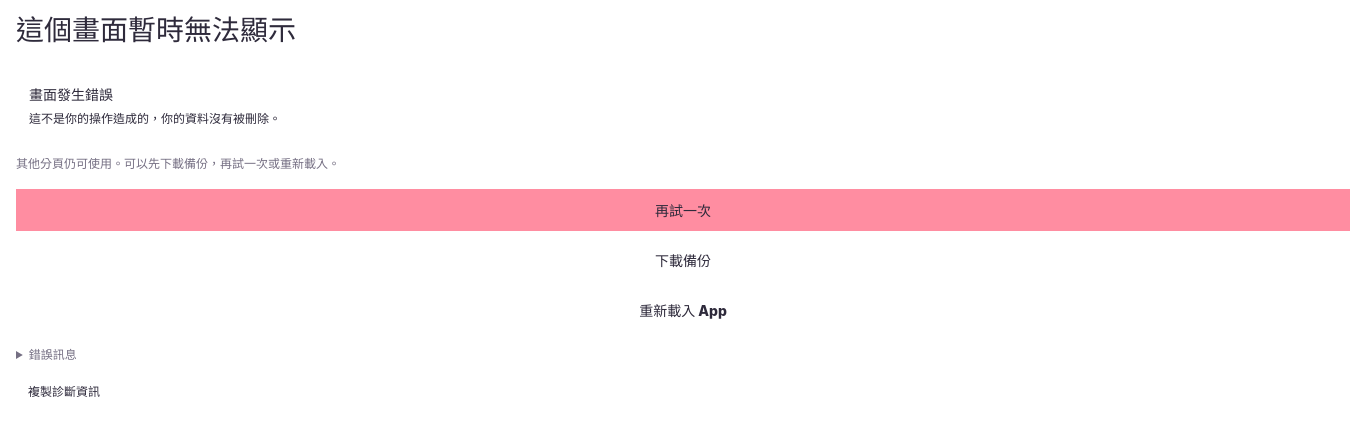
it: copying diagnostics from either fallback › the screen fallback copies version, screen and error type, and never the message
The width and height of the screenshot is (1366, 447).
Click the button "複製診斷資訊".
click(64, 391)  # box [16,375,112,406]
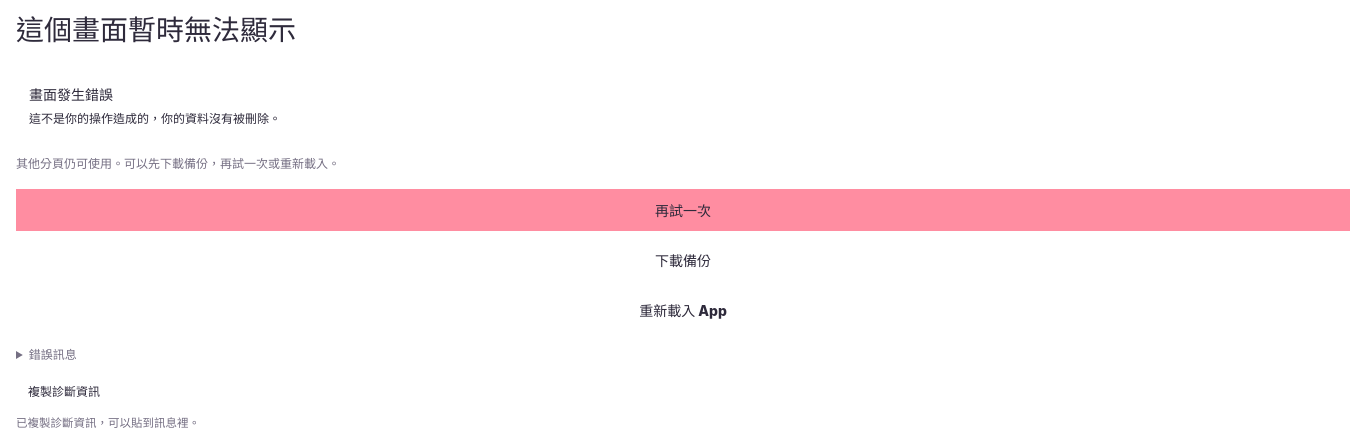
Check: the message "已複製診斷資訊，可以貼到訊息裡。" is shown, box [16,416,200,430]
